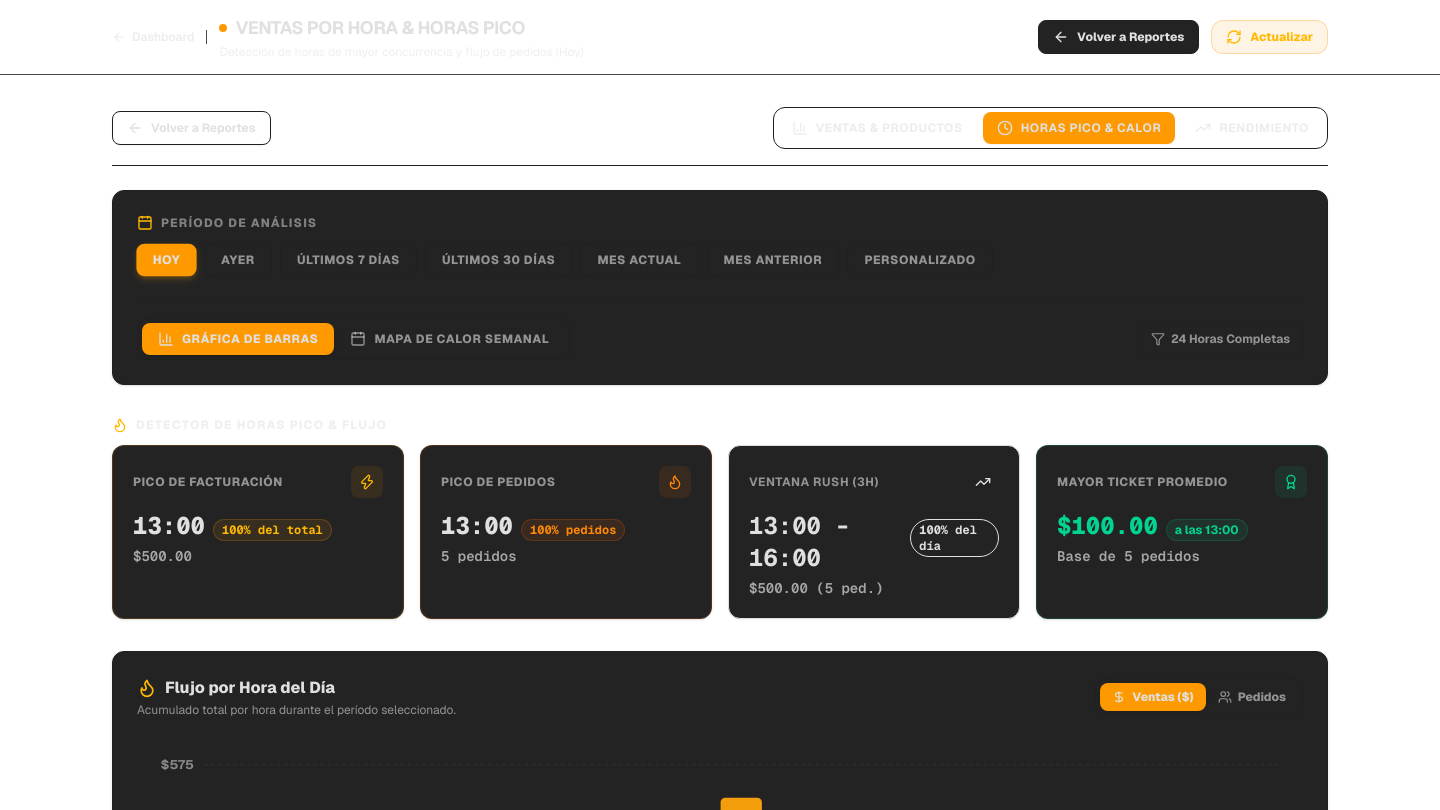
Scenario: HourlyAnalyticsView Component › should switch tabs between bar chart and heatmap
This screenshot has width=1440, height=810.
Click the button with test id "tab-btn-heatmap" at (450, 339), box [334,323,565,355]
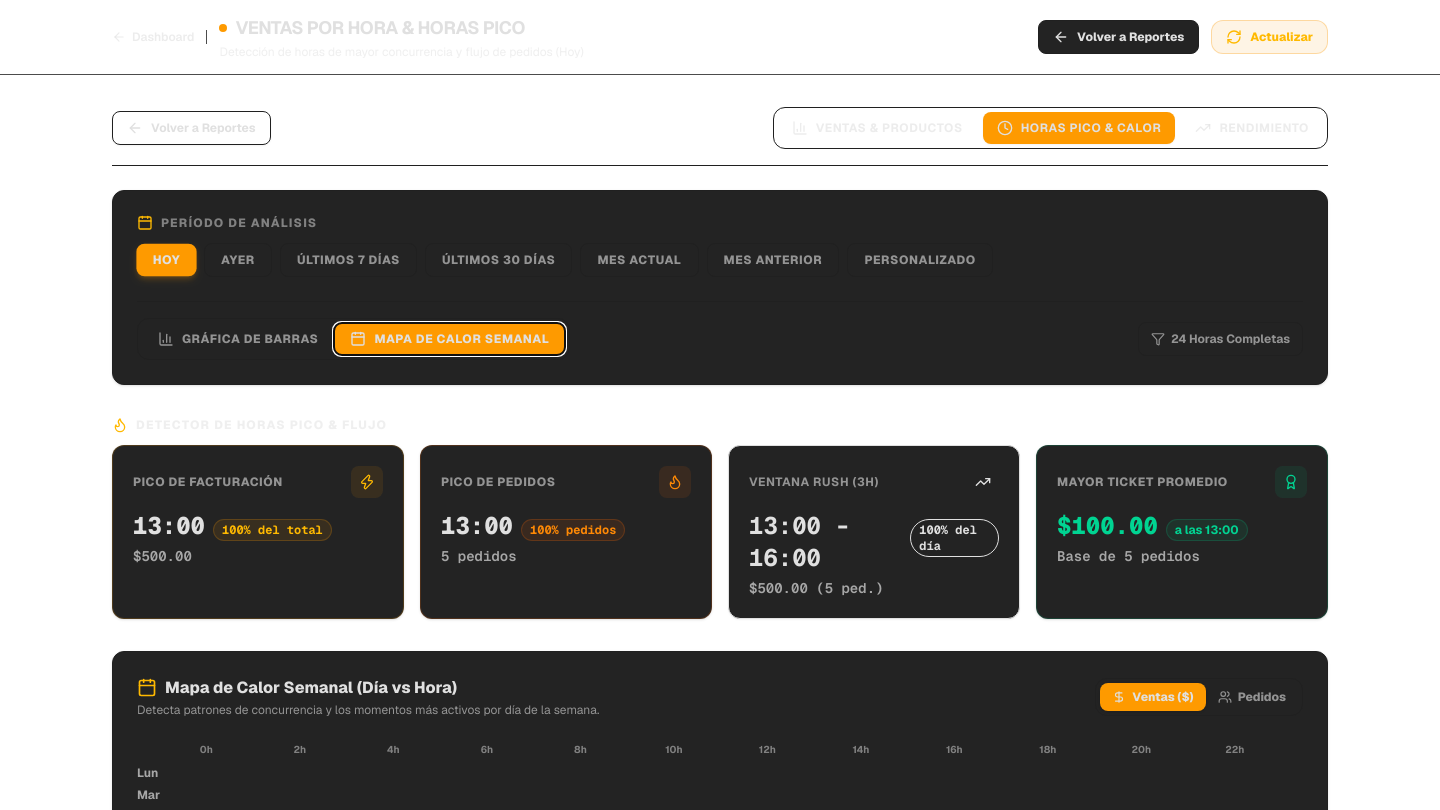
Click the button with test id "tab-btn-bar" at (238, 339), box [142,323,334,355]
(page scrolled)
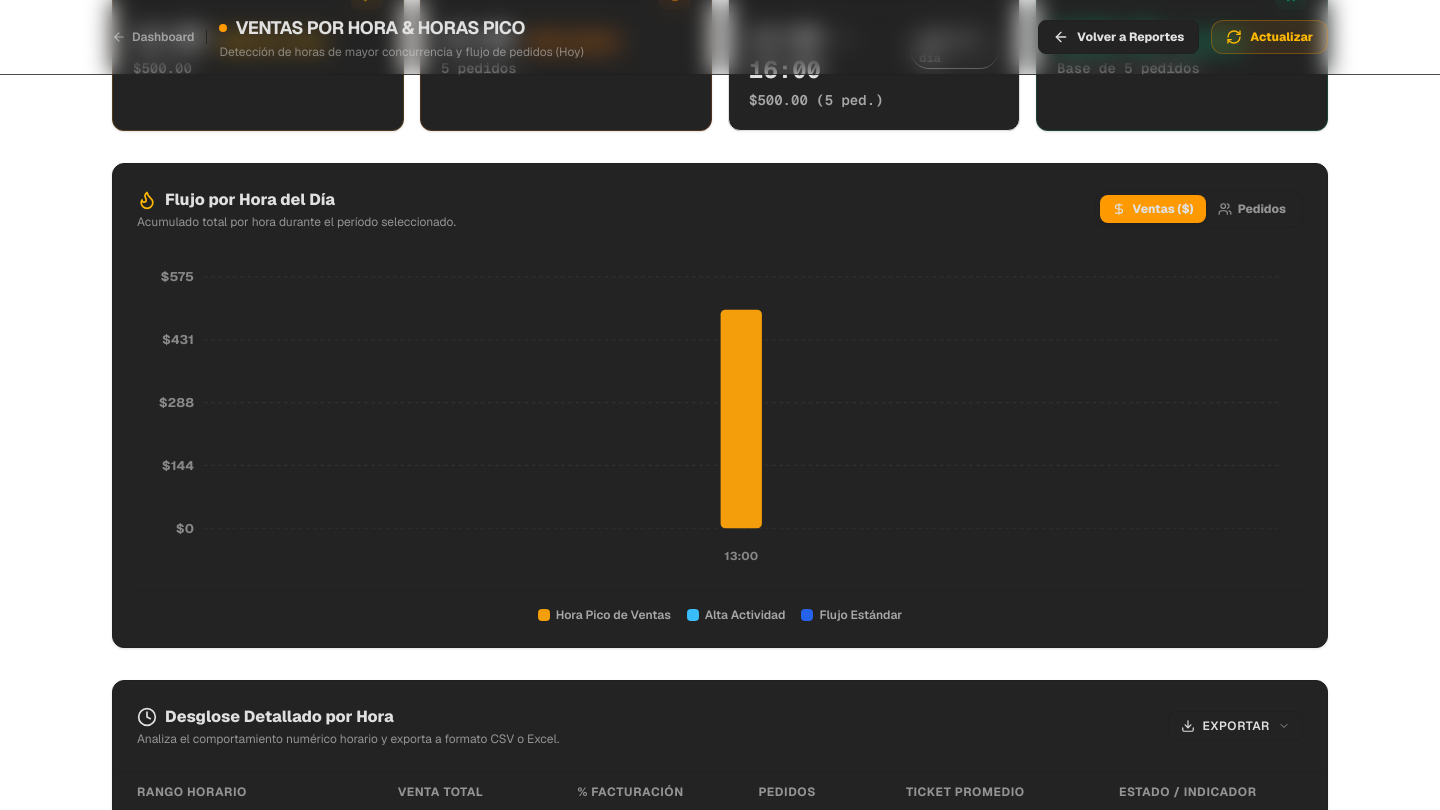
Expected: the element with test id "hourly-bar-chart" is shown, [112,163,1328,648]
